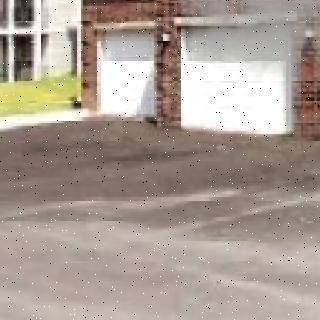smoke: (210, 0, 320, 95)
